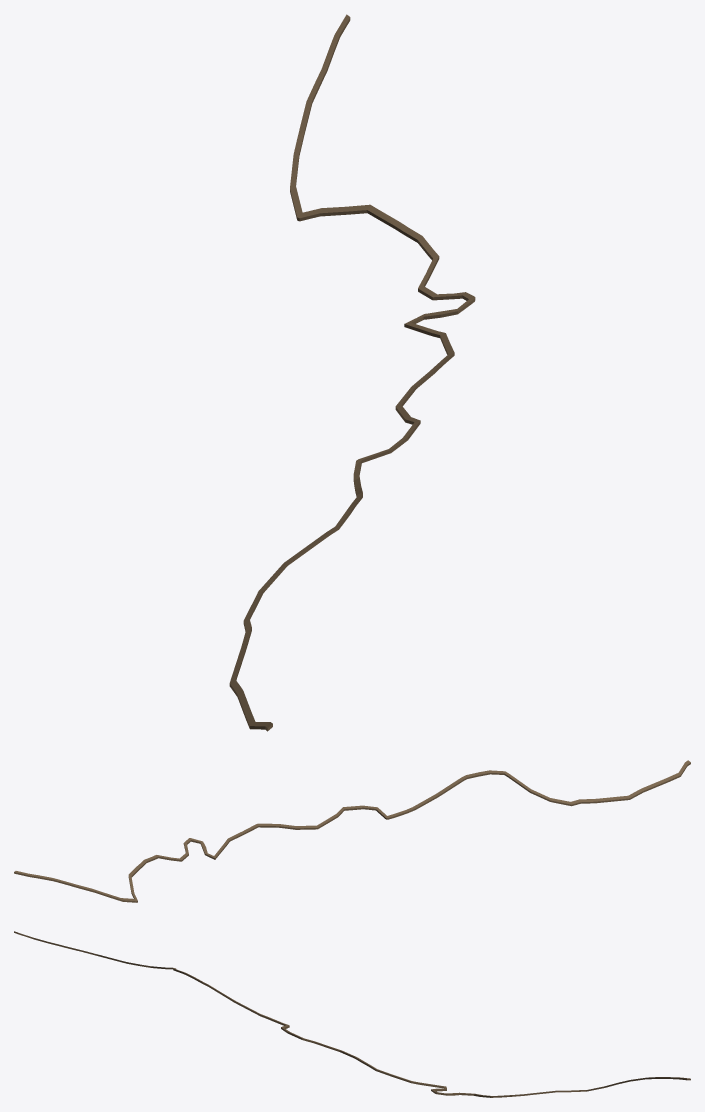
3 views of the same model, one above another, from view 1: azimuth 30°, elevation 25°; view 2: azimuth 150°, elevation 25°; view 3: azimuth 270°, elevation 25° (orthographic). The views are drawn at different scales.
Bounding box in the file's own units: 166 × 22.67 × 256.
